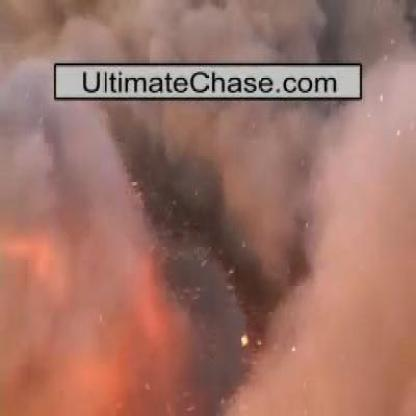-: (21, 112, 368, 379), (52, 3, 337, 60)
